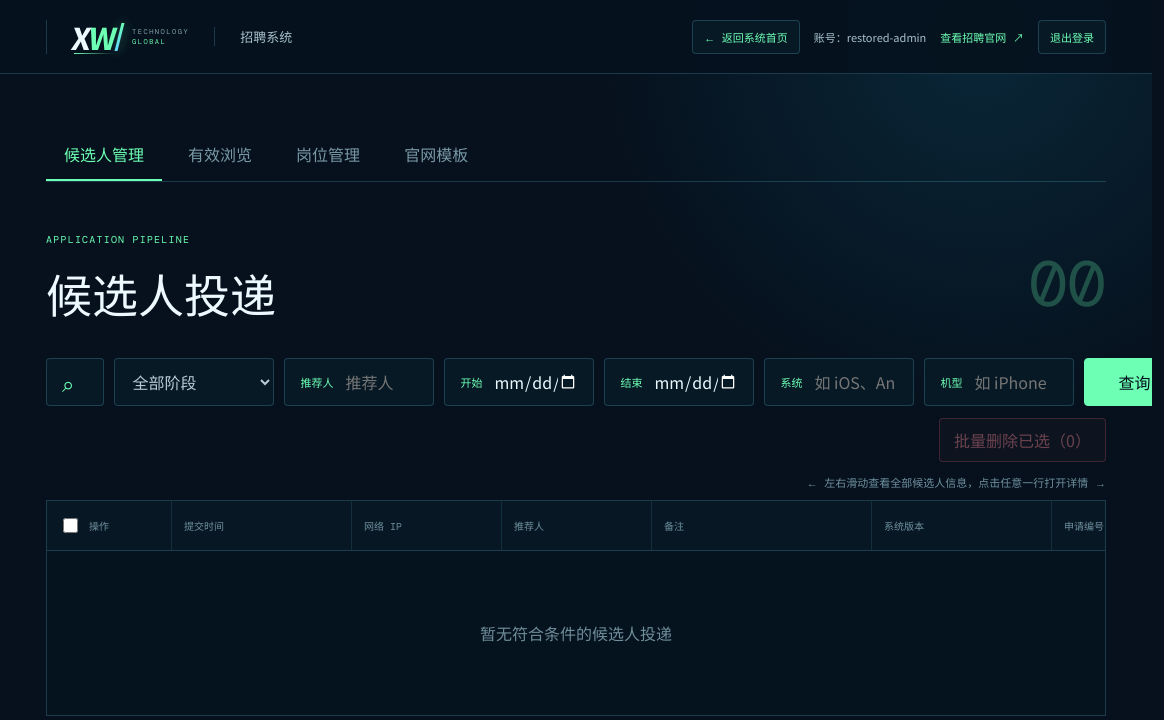
Test: AdminView subsystem shell › prevents the current templates loader from writing while successful logout is in flight
The width and height of the screenshot is (1164, 720).
Click the button "官网模板" at (436, 155), box top-left (386, 129), bottom-right (486, 181)
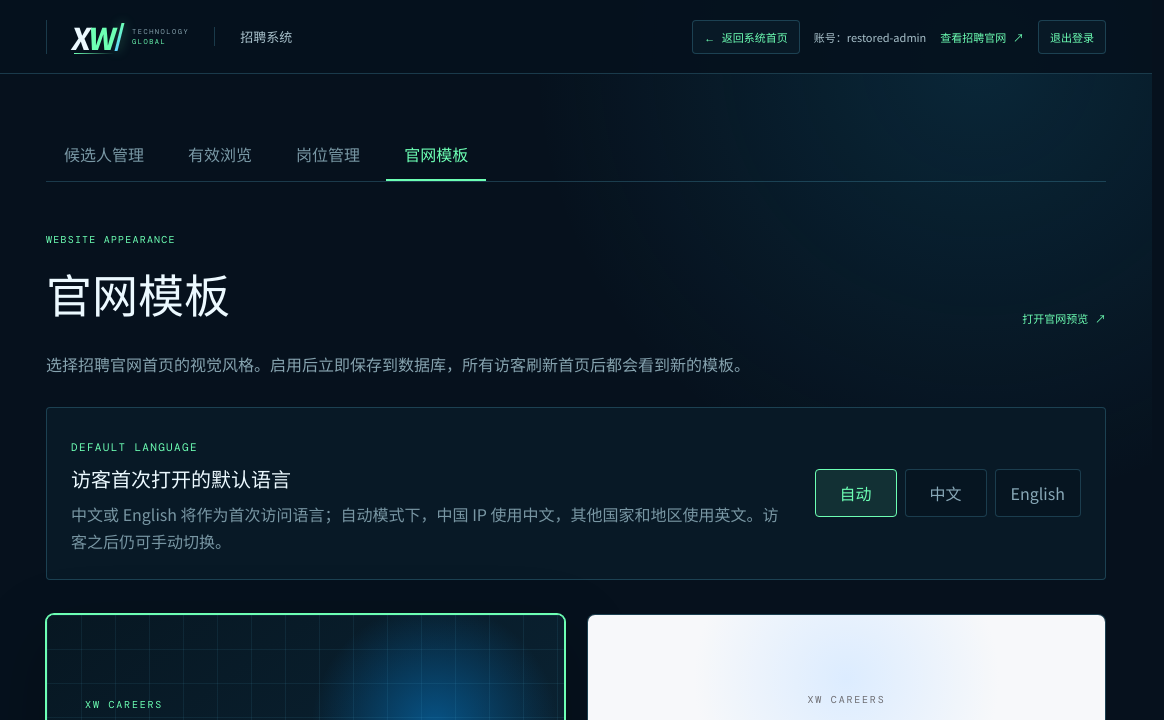
Click the button with test id "logout" at (1072, 36), box top-left (1038, 20), bottom-right (1106, 54)
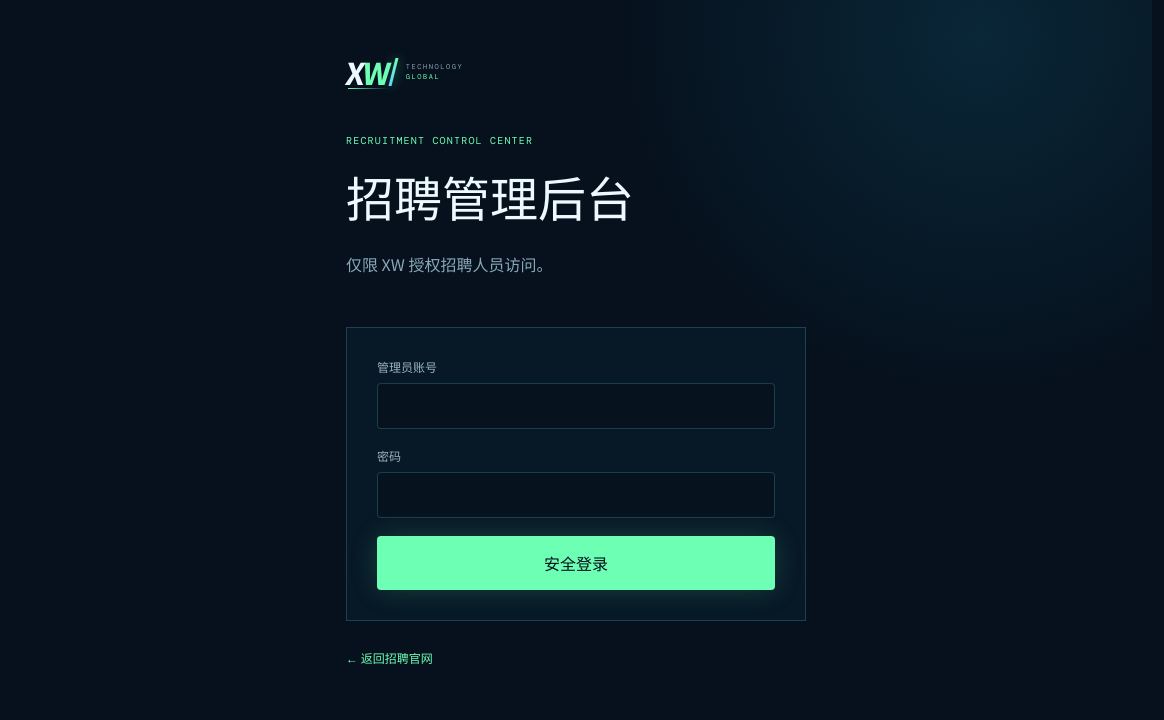
Now the text "安全登录" is shown, box top-left (377, 536), bottom-right (775, 590)
